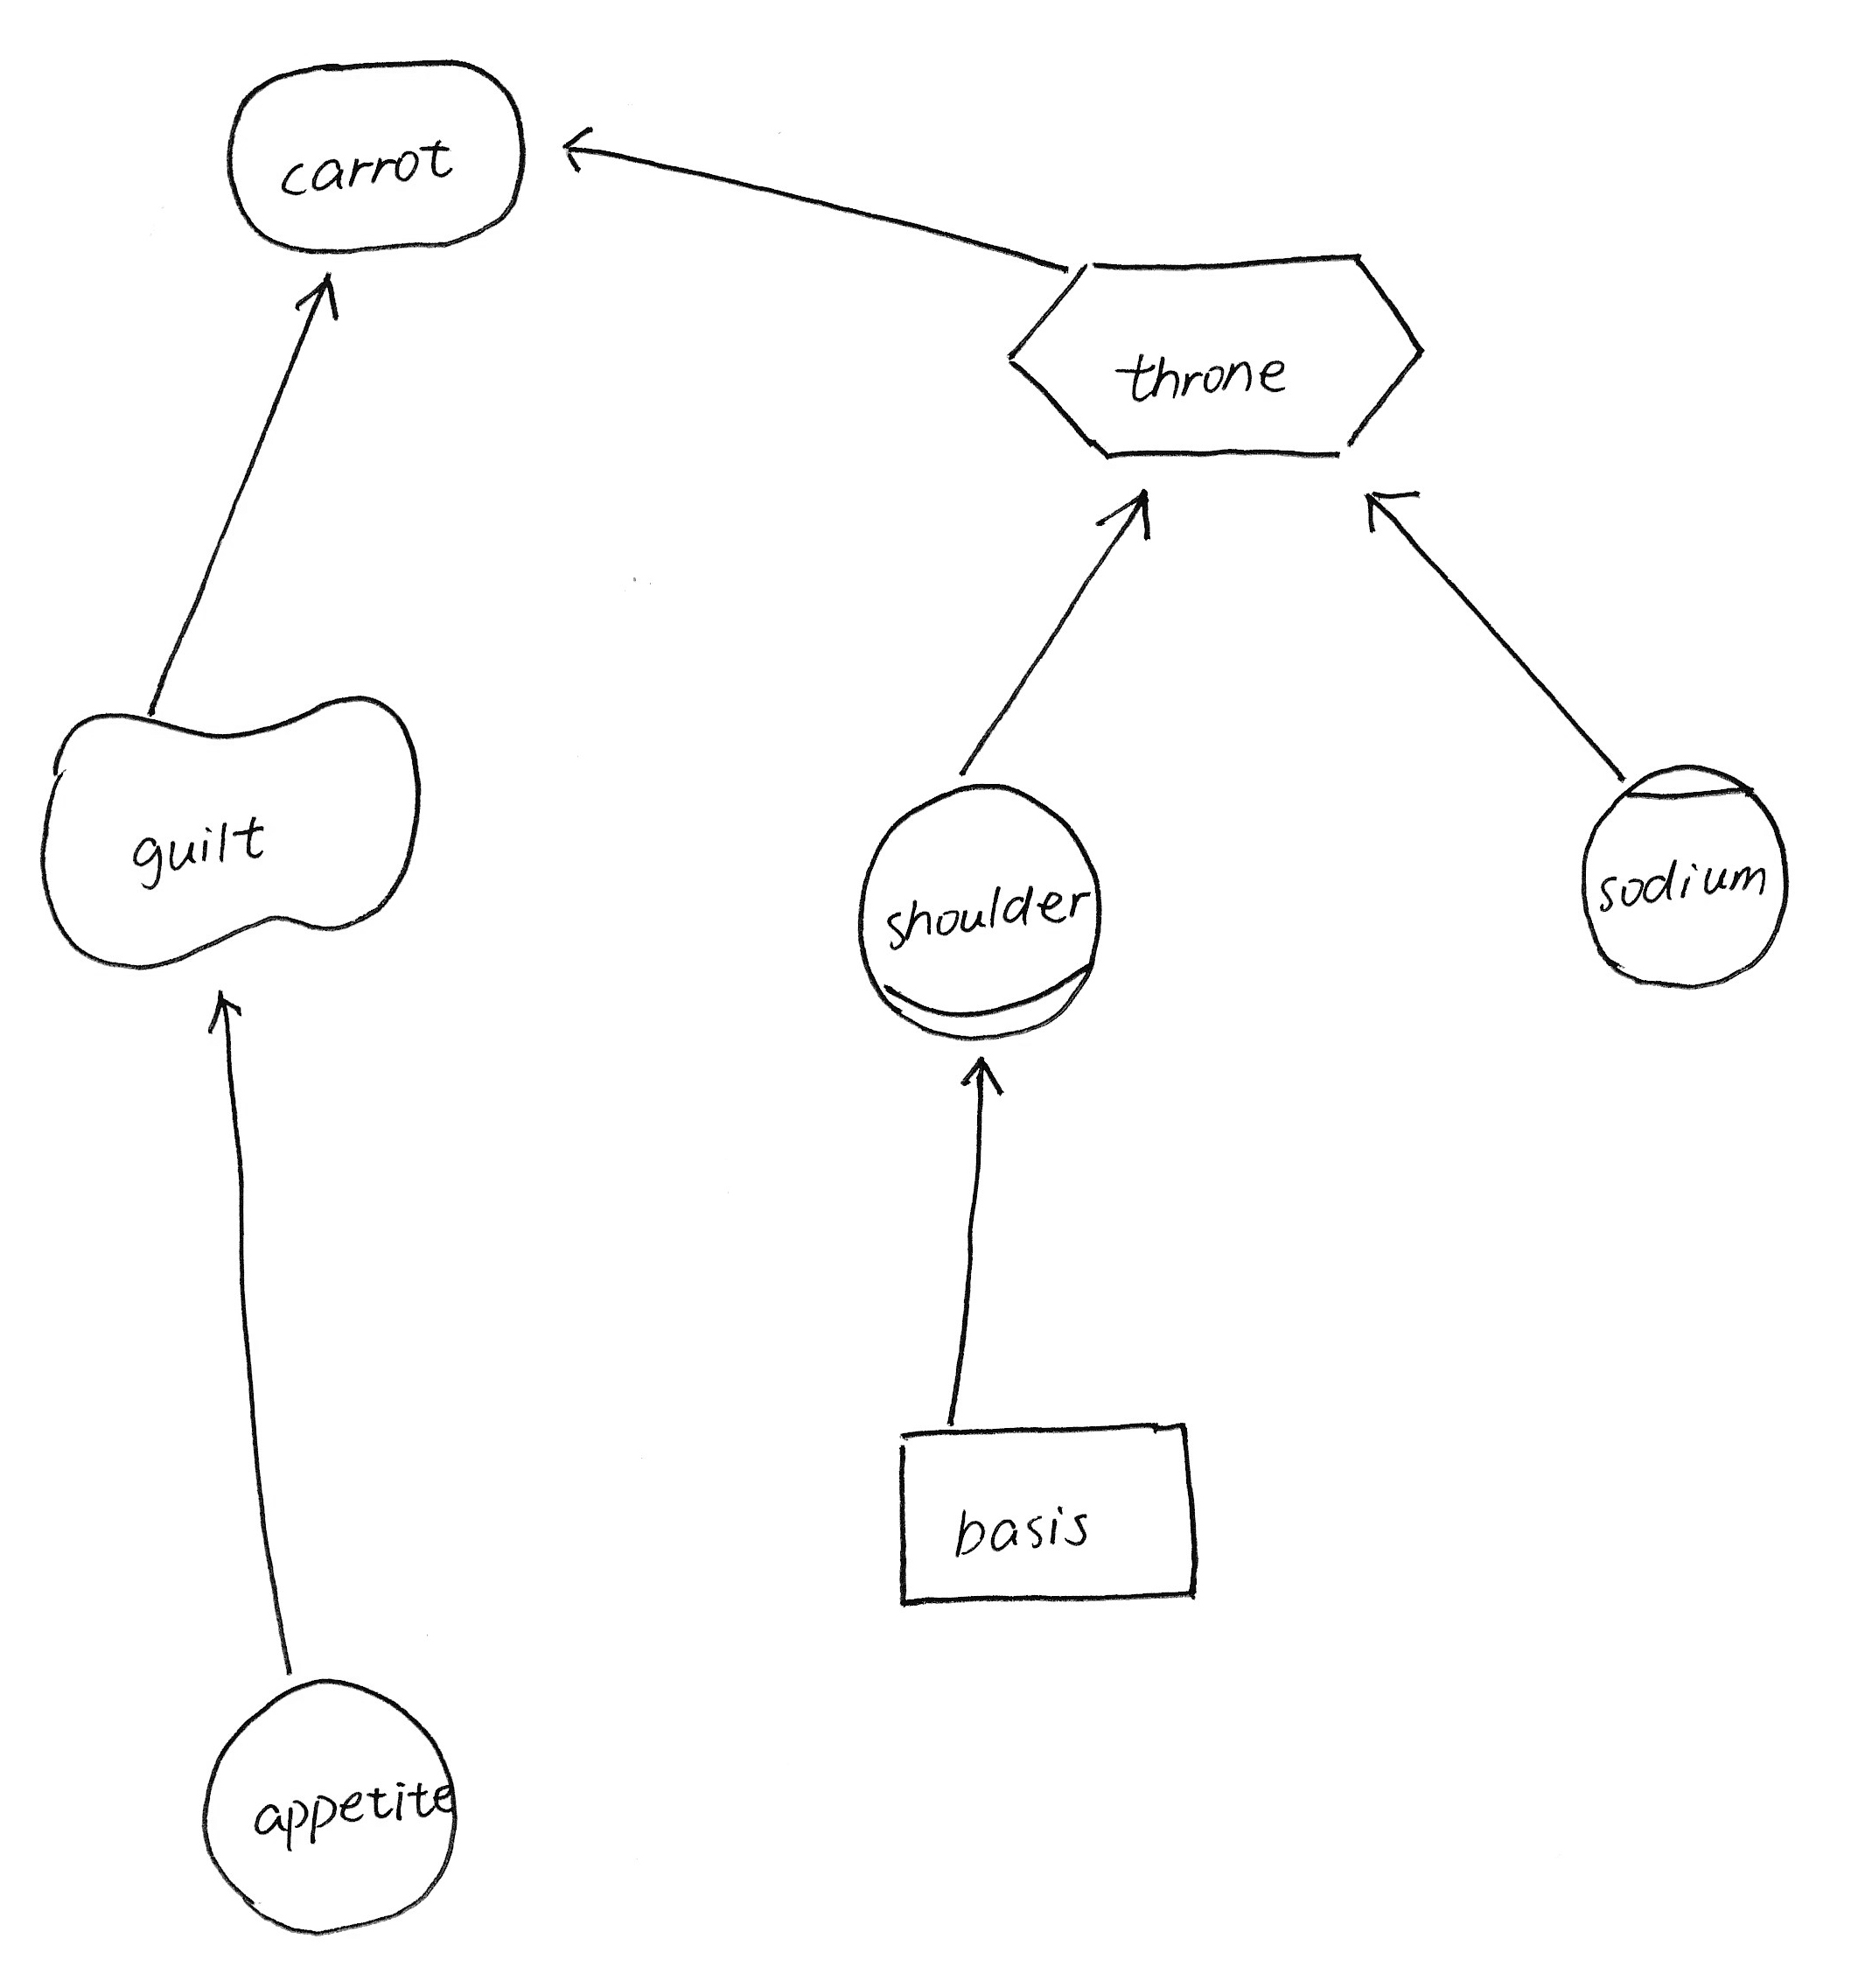actor: (184, 1655, 482, 1948)
agent: (1560, 742, 1809, 1003)
arrow: (1339, 473, 1436, 554), (1087, 477, 1166, 556), (277, 254, 352, 337), (542, 107, 617, 186), (943, 1036, 1018, 1108), (191, 976, 263, 1047)
goal: (212, 35, 554, 273)
quality: (21, 684, 438, 983)
resource: (871, 1406, 1234, 1625)
role: (827, 768, 1125, 1055)
task: (987, 233, 1448, 484)
